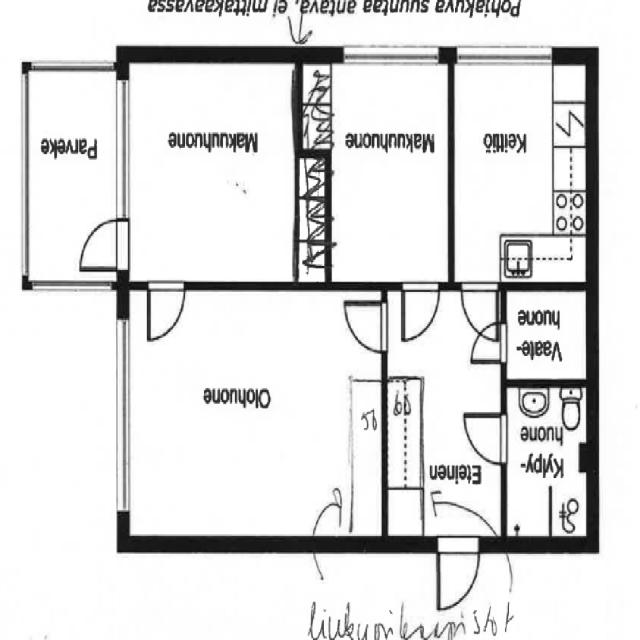door: (120, 281, 382, 541), (433, 535, 484, 616), (342, 293, 392, 357), (76, 214, 131, 272), (397, 278, 442, 346), (460, 408, 511, 468), (144, 279, 186, 344), (457, 275, 499, 339), (467, 304, 507, 366)
window: (108, 312, 139, 520), (338, 39, 444, 74), (452, 40, 557, 73), (111, 80, 134, 228), (27, 273, 118, 299)
zone: (116, 285, 378, 543), (122, 53, 306, 287), (302, 54, 452, 286), (449, 56, 591, 280), (502, 382, 594, 544), (502, 284, 592, 382)
